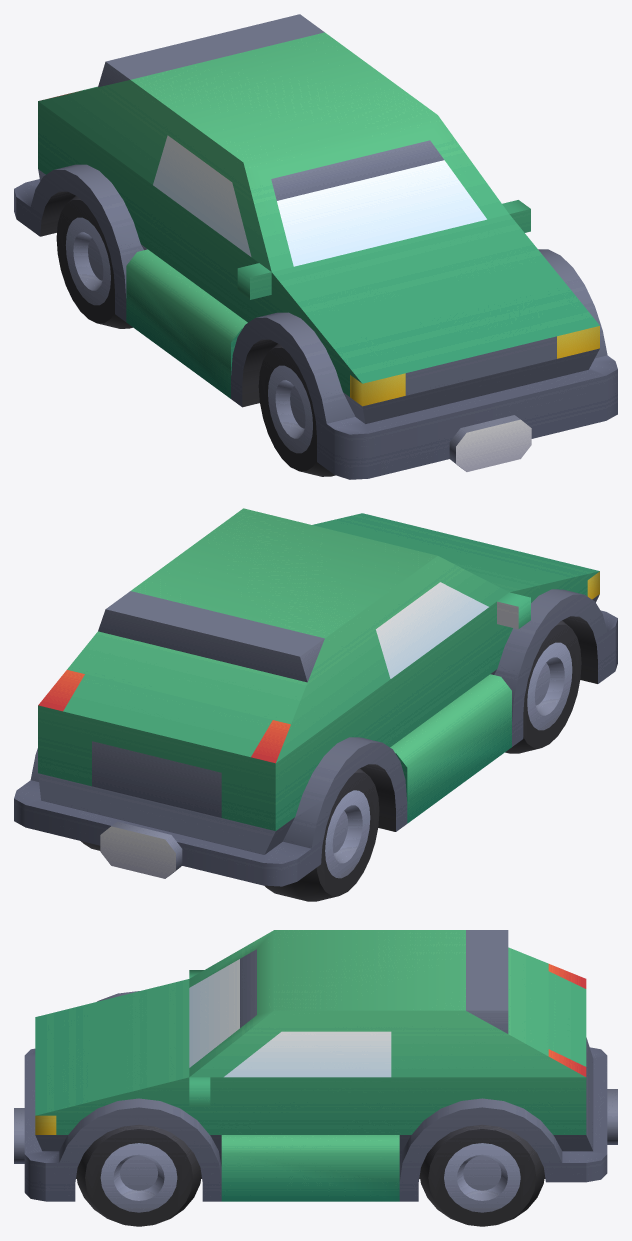
Rendered from green-car.glb.
The picture shows the model from 3 angles, top to bottom: view 1: azimuth 30°, elevation 25°; view 2: azimuth 150°, elevation 25°; view 3: azimuth 270°, elevation 25°; orthographic projection. The views are drawn at different scales.
Visible parts, largest first — view 1: body.005, wheel-back-right.005, wheel-front-right.005; view 2: body.005, wheel-back-right.005, wheel-front-right.005; view 3: body.005, wheel-back-left.005, wheel-front-left.005.
Boxes of the visible parts, left/top/right/bottom form: body.005: left=14, top=14, right=617, bottom=479; wheel-back-right.005: left=56, top=196, right=132, bottom=328; wheel-front-right.005: left=258, top=343, right=335, bottom=476; body.005: left=14, top=508, right=617, bottom=886; wheel-back-right.005: left=264, top=768, right=379, bottom=901; wheel-front-right.005: left=505, top=620, right=581, bottom=753; body.005: left=14, top=930, right=617, bottom=1201; wheel-back-left.005: left=419, top=1124, right=544, bottom=1226; wheel-front-left.005: left=76, top=1124, right=201, bottom=1226.
Size of the model in its own units: 1.3 by 1.1 by 2.85.
Materials: 1 (1 with a texture image).
